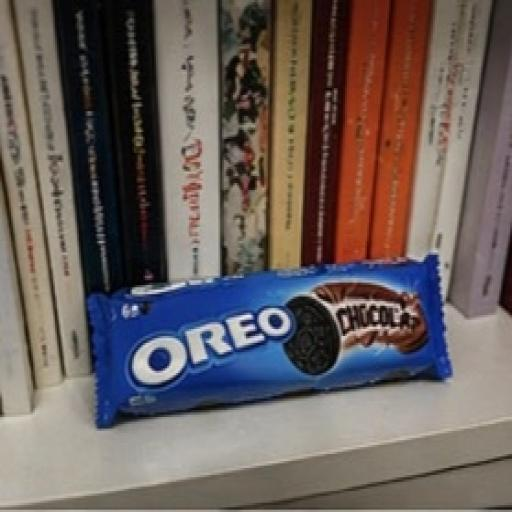oreo: (62, 222, 488, 464)
